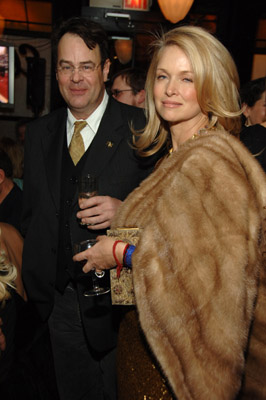23: (103, 69, 139, 123)
42: (143, 34, 212, 132)
46: (49, 27, 109, 117)
Bag: (105, 224, 142, 309)
Bracelet: (109, 235, 128, 279)
Brooch: (105, 138, 117, 153)
Coat: (13, 93, 163, 365)
Female: (143, 34, 212, 132)
Glasses: (51, 63, 110, 83)
Male: (49, 27, 109, 117), (103, 69, 139, 123)
Pants: (44, 278, 127, 400)
Ring: (91, 268, 110, 282)
Shawl: (103, 123, 265, 400)
Shirt: (64, 90, 110, 158)
Tie: (67, 119, 90, 172)
Waistcoat: (57, 105, 102, 301)
